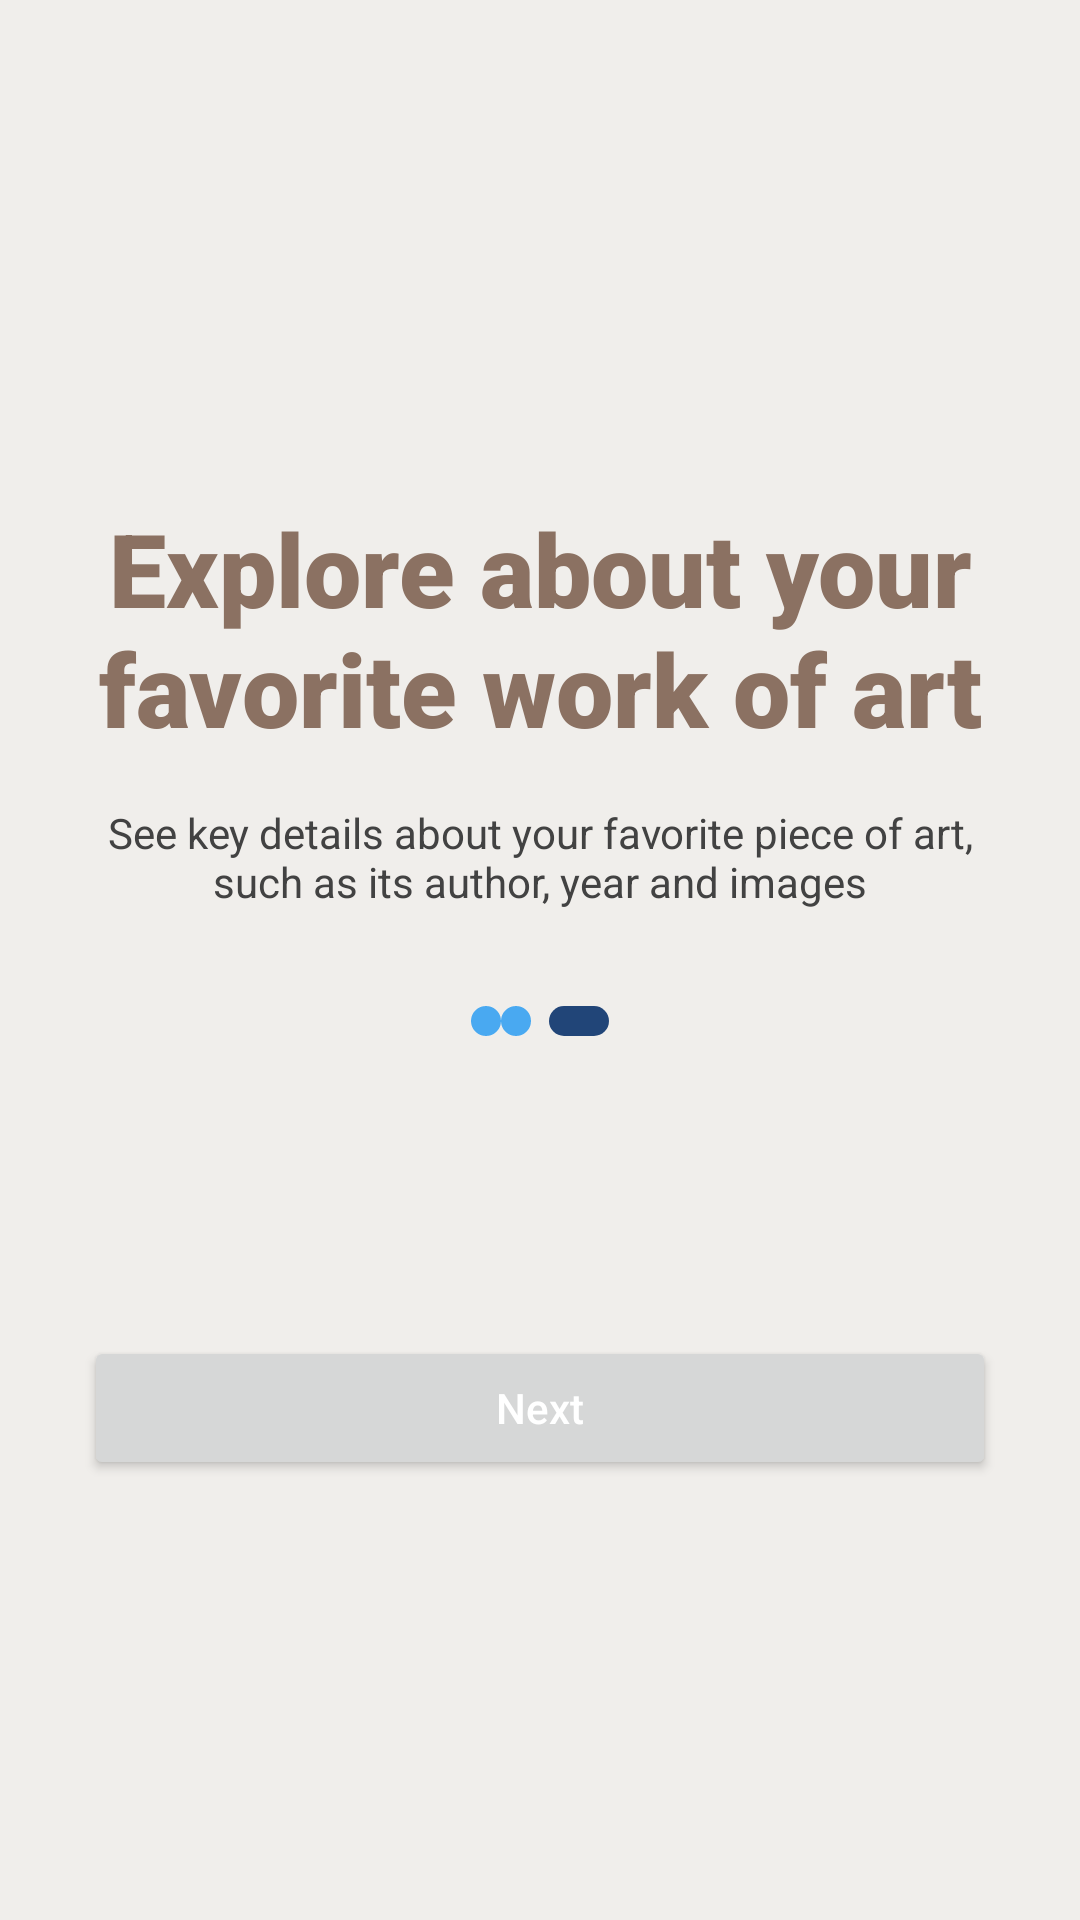

Icon click points for this 1080px×1920px phone screenshot, format (x=x, y=y):
dot indicator: (x=486, y=1021), (x=516, y=1021), (x=579, y=1021)
